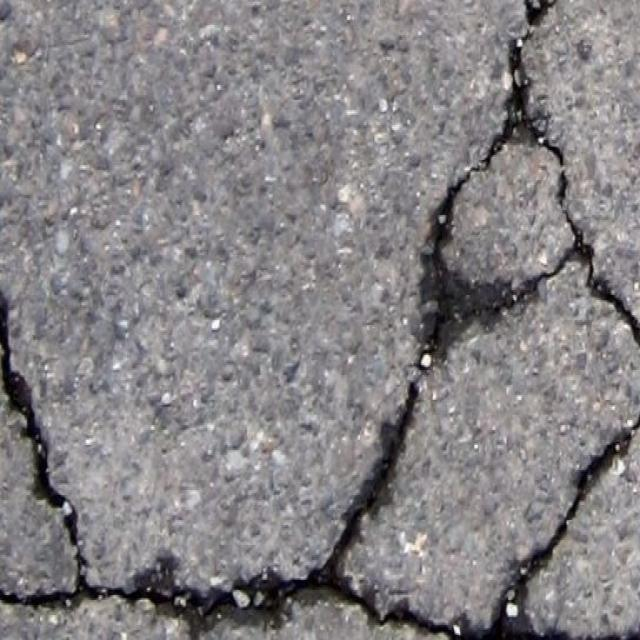crack: (0, 284, 96, 613), (337, 328, 444, 543), (329, 544, 569, 638), (96, 556, 328, 630), (503, 3, 575, 204), (427, 235, 557, 326), (557, 206, 639, 347), (550, 416, 639, 542), (430, 134, 505, 232)
